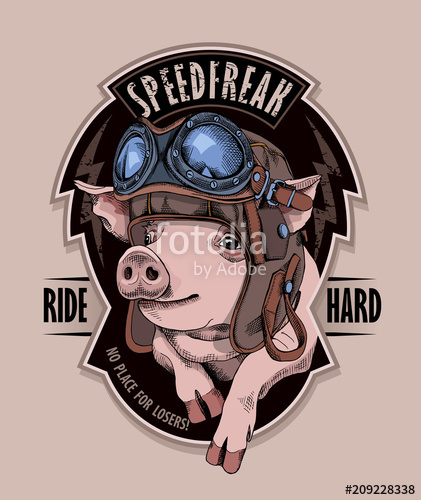with_helmet: (117, 116, 307, 294)
